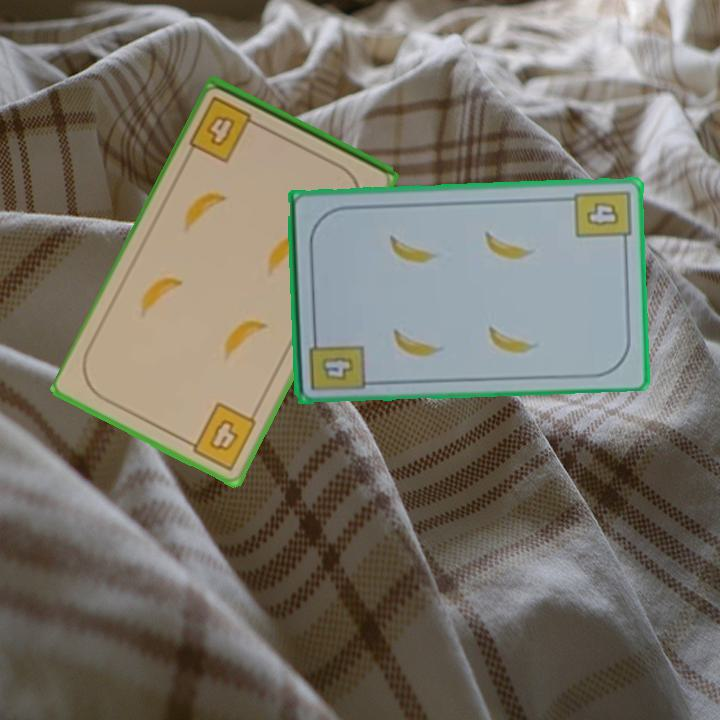4b: (181, 398, 260, 474), (186, 92, 267, 166), (571, 186, 634, 250), (305, 329, 367, 393)
